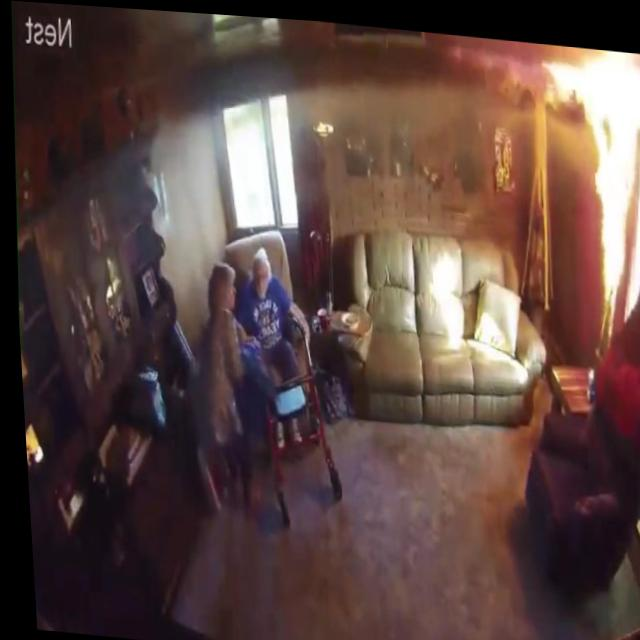fire: (582, 47, 640, 319), (505, 37, 640, 120)
